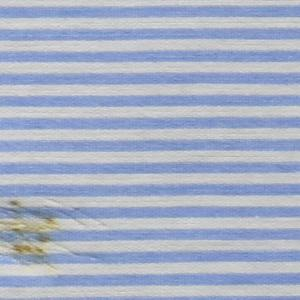Damage: (1, 196, 110, 277)
Oil Stain: (1, 195, 66, 272)
